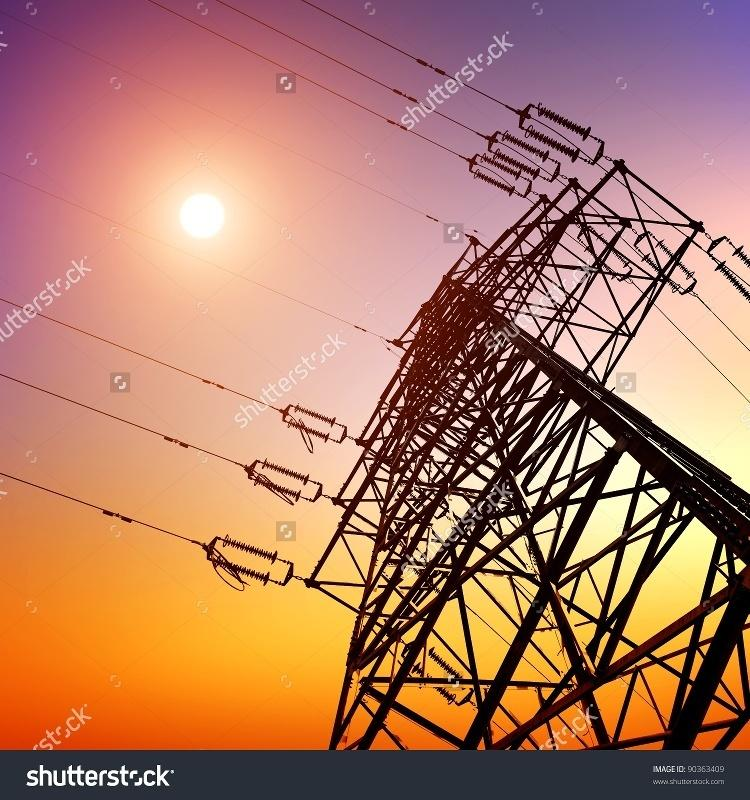power_tower: (312, 194, 746, 735)
